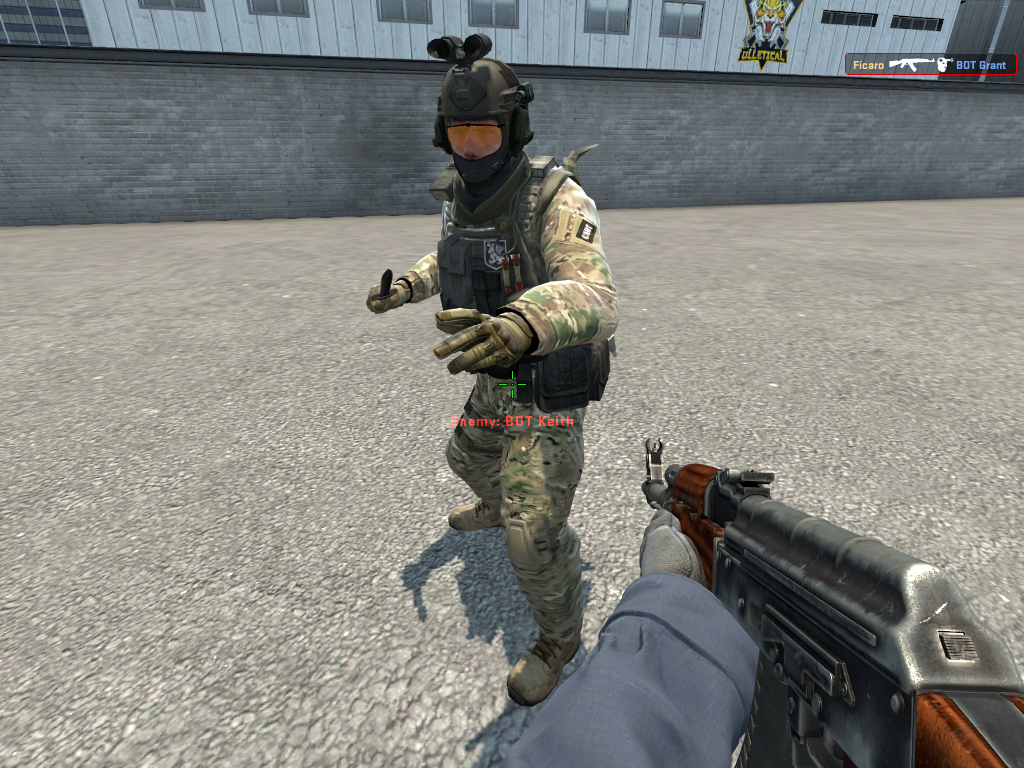ct head: (430, 52, 535, 190)
